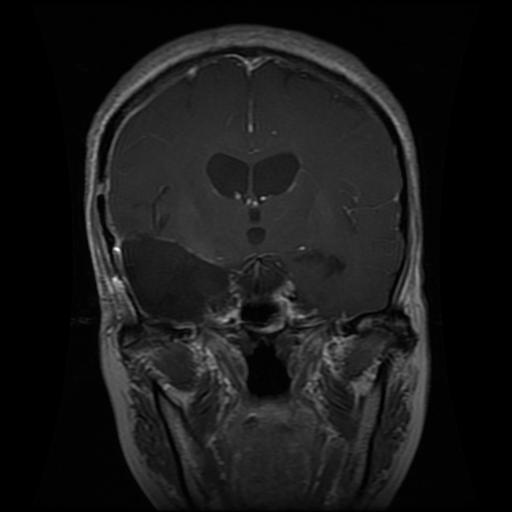Gliomia_tumour: (119, 231, 230, 322)
